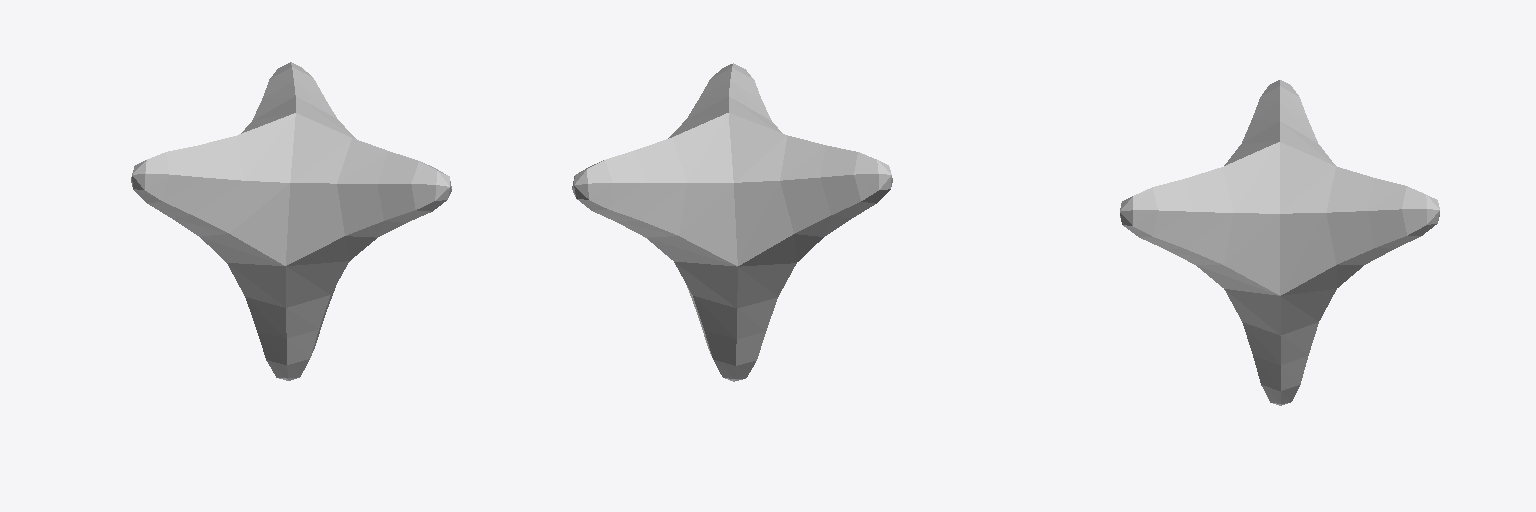
Rendered from Stage0.obj.
3 renders of one model, left to right at view 1: azimuth 30°, elevation 25°; view 2: azimuth 150°, elevation 25°; view 3: azimuth 270°, elevation 25°, orthographic.
Visible parts, largest first — view 1: Cube; view 2: Cube; view 3: Cube.
Boxes of the visible parts, x1,y1,x2,y2 form: Cube: [131, 62, 451, 380]; Cube: [572, 63, 892, 381]; Cube: [1120, 80, 1439, 405].
Bounding box in the file's own units: 0.0942 × 0.0971 × 0.1057.